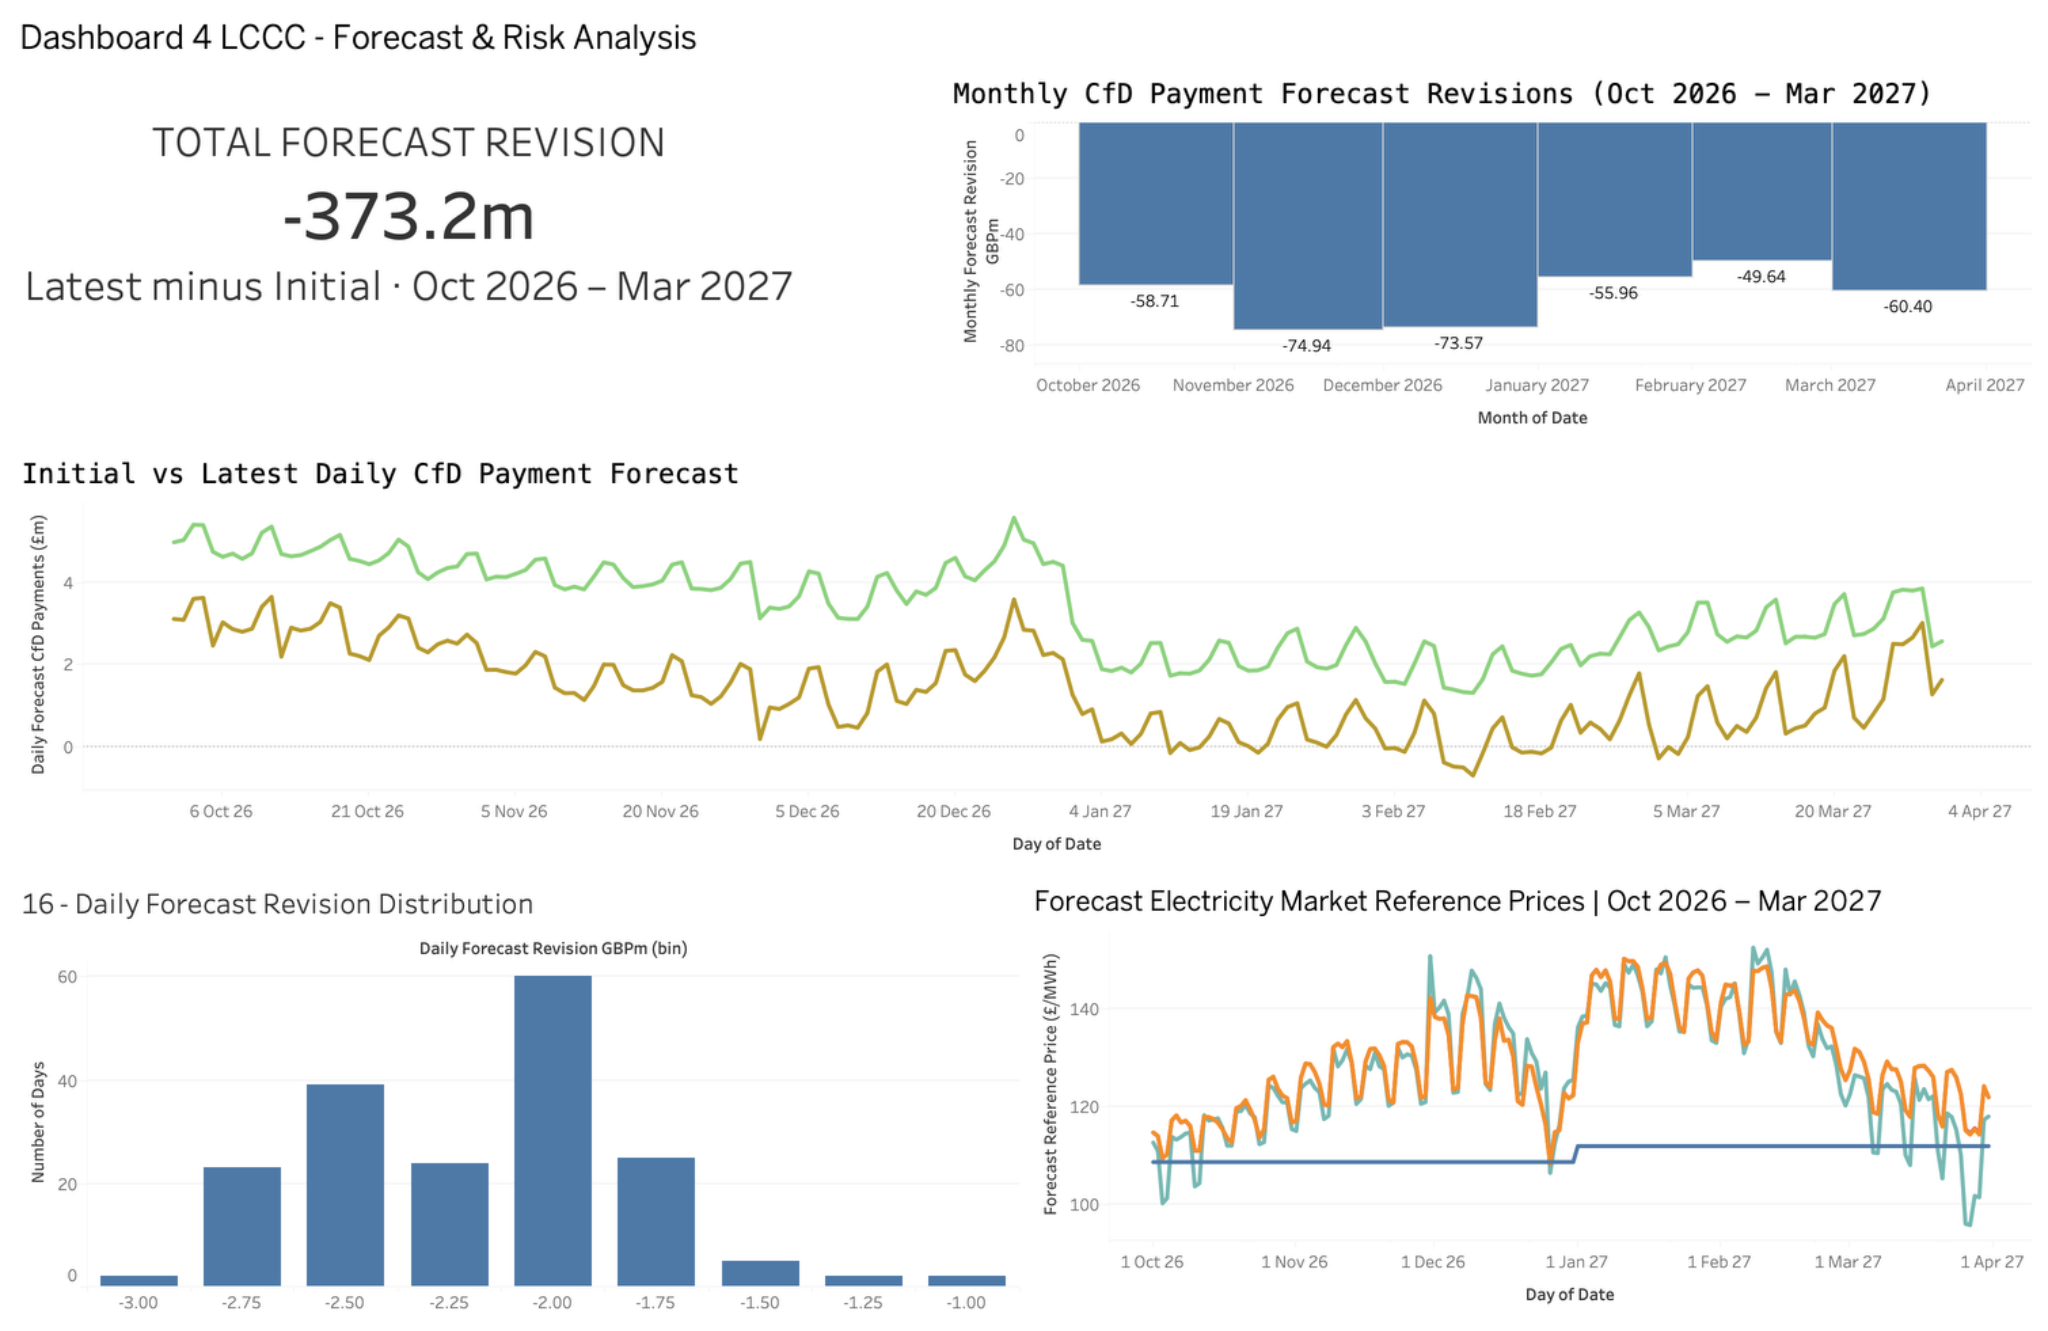

Layout of this report page (visuals, bound fields, positions):
{"tool":"tableau","page":{"name":"LCCC | Forecast & Risk Analysis","canvas":[1000,1000],"units":"permille","ordinal":3},"visuals":[{"type":"title","box":[5.3,8.2,989.4,39.8]},{"type":"worksheet","title":"15 - KPI Total Forecast Revision","mark":"Automatic","box":[5.3,47.9,455,285.4]},{"type":"worksheet","title":"14 - Monthly Forecast Variance","mark":"Bar","rows":["Calculation_4854673391091724"],"cols":["date"],"box":[460.3,47.9,534.4,285.4]},{"type":"worksheet","title":"13 - Initial vs Latest CfD Forecast","mark":"Line","cols":["date"],"box":[5.3,333.3,989.4,320.1]},{"type":"worksheet","title":"16 - Daily Forecast Revision Distribution","mark":"Automatic","rows":["Calculation_4854673393594382"],"cols":["Daily Forecast Revision GBPm (bin)"],"box":[5.3,653.4,494.7,338.4]},{"type":"worksheet","title":"17 - Forecast Market Reference Prices","mark":"Automatic","rows":["value"],"cols":["date"],"box":[500,653.4,494.7,338.4]}]}

Visuals, with their boxes on the dashboard's canvas, which has no fixed pixel size, in thousandths of its width and height (x1, y1, x2, y2). These are canvas units, not pixel positions in the 2048x1331 screenshot, which may show the page scaled, cropped or inside an application window:
title: {"left": 5, "top": 8, "right": 995, "bottom": 48}
"15 - KPI Total Forecast Revision" worksheet: {"left": 5, "top": 48, "right": 460, "bottom": 333}
"14 - Monthly Forecast Variance" worksheet (Bar marks): {"left": 460, "top": 48, "right": 995, "bottom": 333}
"13 - Initial vs Latest CfD Forecast" worksheet (Line marks): {"left": 5, "top": 333, "right": 995, "bottom": 653}
"16 - Daily Forecast Revision Distribution" worksheet: {"left": 5, "top": 653, "right": 500, "bottom": 992}
"17 - Forecast Market Reference Prices" worksheet: {"left": 500, "top": 653, "right": 995, "bottom": 992}
